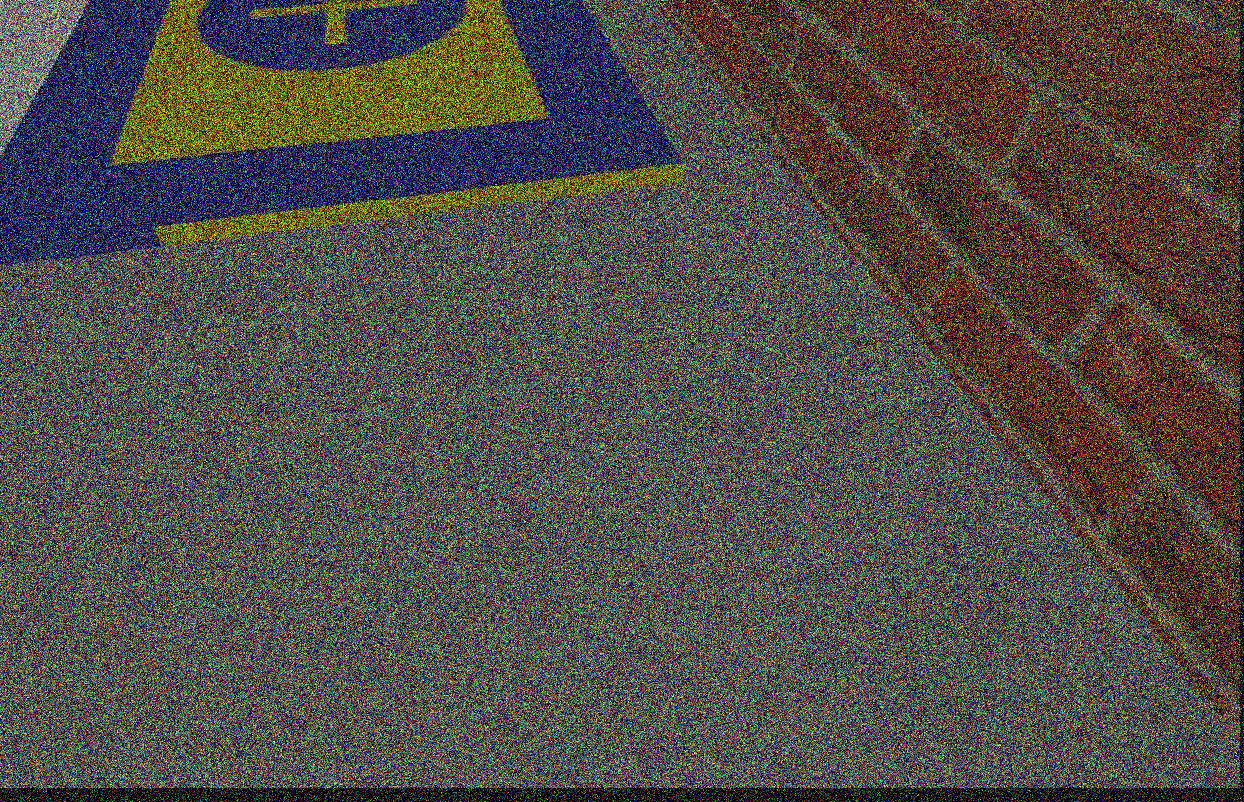large_base: (0, 1, 692, 270)
